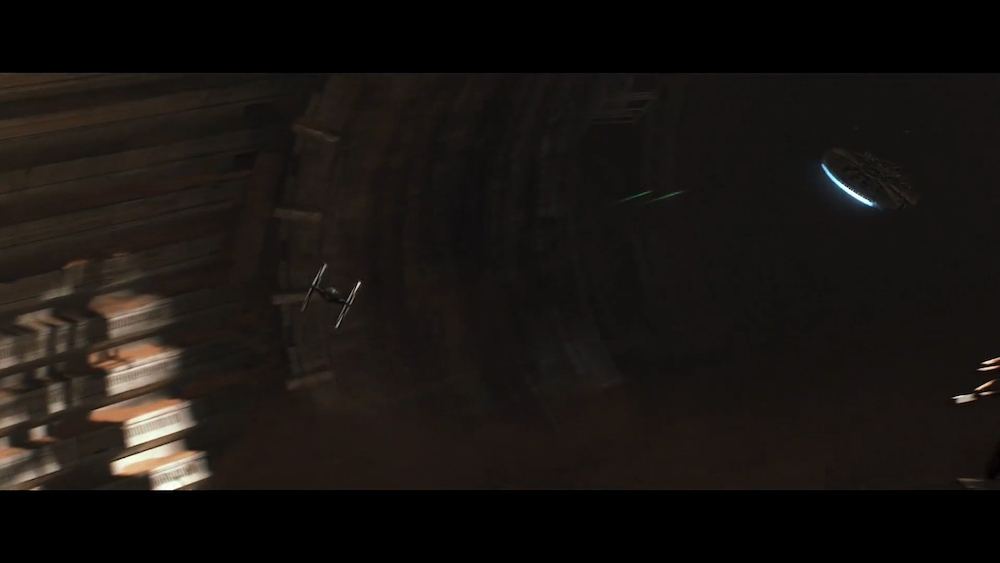Millennium Falcon: (816, 144, 931, 216)
Tie Fighter: (297, 260, 365, 333)
